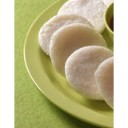idly: (51, 25, 108, 75), (39, 14, 93, 59), (67, 46, 110, 99), (58, 1, 106, 34), (97, 57, 114, 111)
